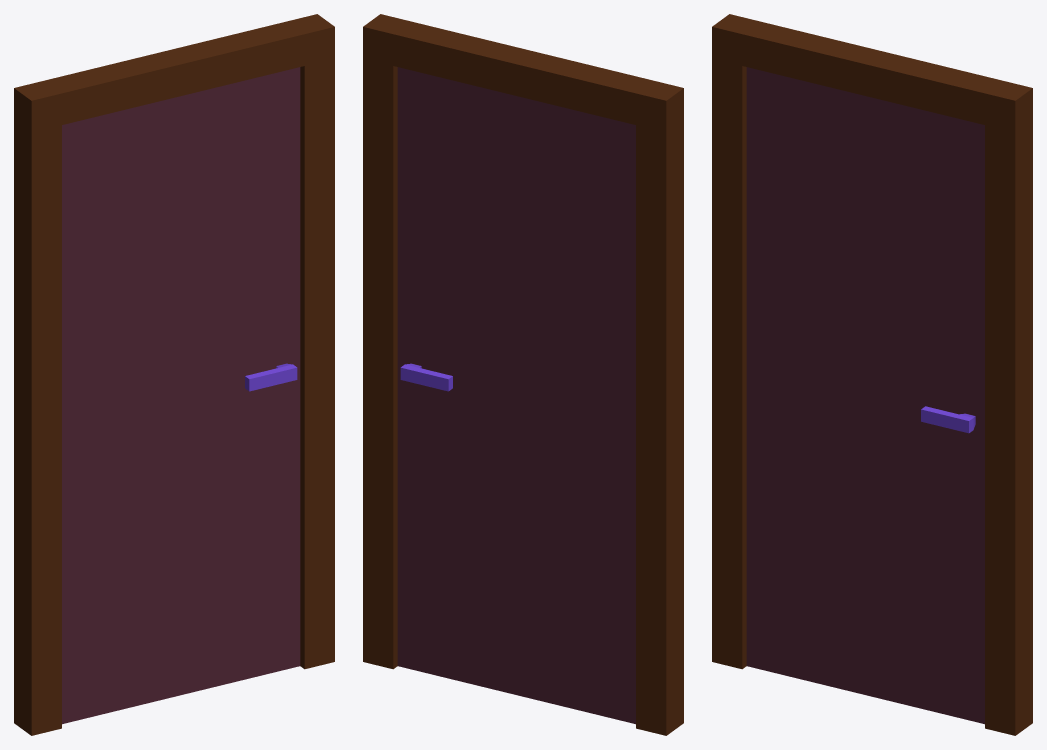
The model's file is door-model.glb.
3 renders of one model, left to right at view 1: azimuth 30°, elevation 25°; view 2: azimuth 150°, elevation 25°; view 3: azimuth 330°, elevation 25°, orthographic.
Parts seen in each view (by area): view 1: Door, DoorFrame, Handle; view 2: Door, DoorFrame, Handle; view 3: Door, DoorFrame, Handle.
Part boxes in pixels (<box>): Door: <box>62,67,300,724</box>; DoorFrame: <box>14,14,334,735</box>; Handle: <box>245,363,297,391</box>; Door: <box>397,67,635,724</box>; DoorFrame: <box>363,14,683,735</box>; Handle: <box>400,363,452,391</box>; Door: <box>746,67,984,724</box>; DoorFrame: <box>712,14,1032,735</box>; Handle: <box>921,406,975,433</box>.
Bounding box in the file's own units: 1 × 2 × 0.1503.
